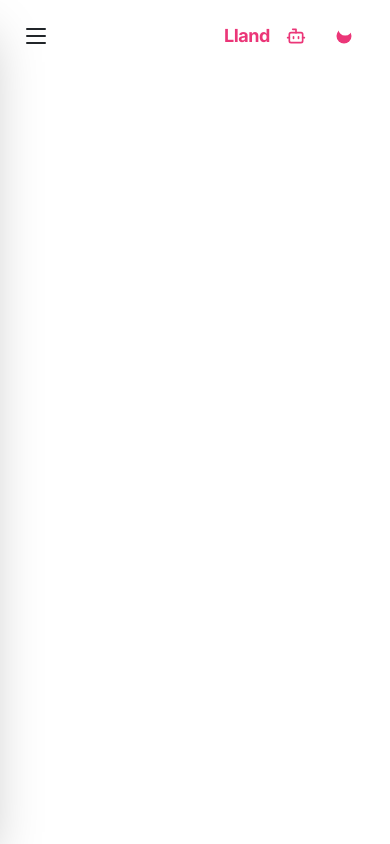
Test: Navbar & useActiveSection › toggles mobile menu when hamburger button is clicked
Step 1. Click the button named "Toggle navigation" → (36, 36), box [20, 22, 52, 50]
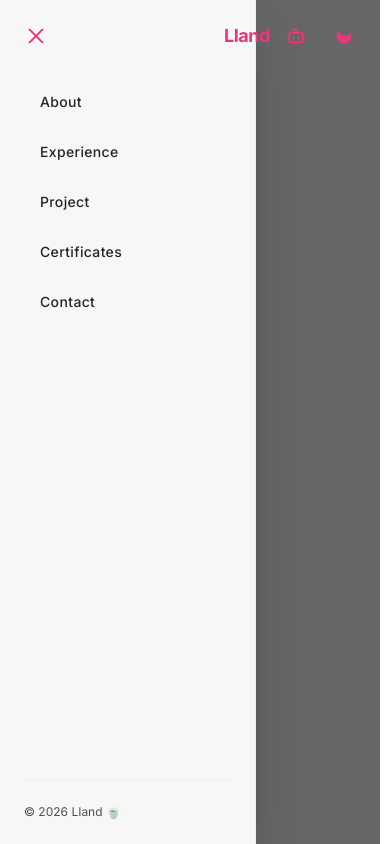
Now the button named "Toggle navigation" is expanded
Step 2. Click the button named "Toggle navigation" → (36, 36), box [20, 22, 52, 50]
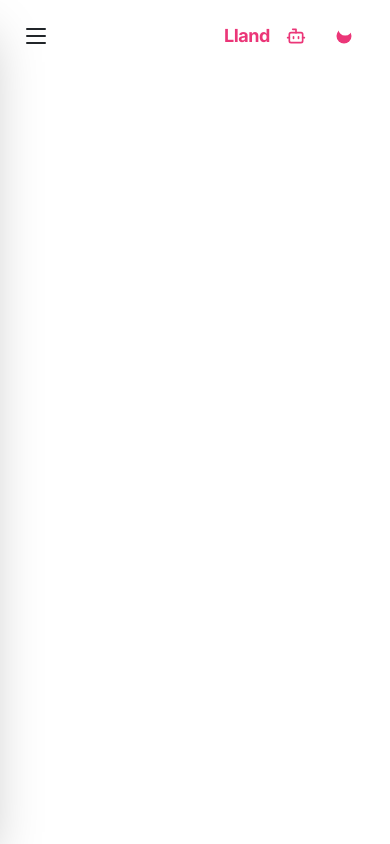
Now the button named "Toggle navigation" is collapsed, box [20, 22, 52, 50]
